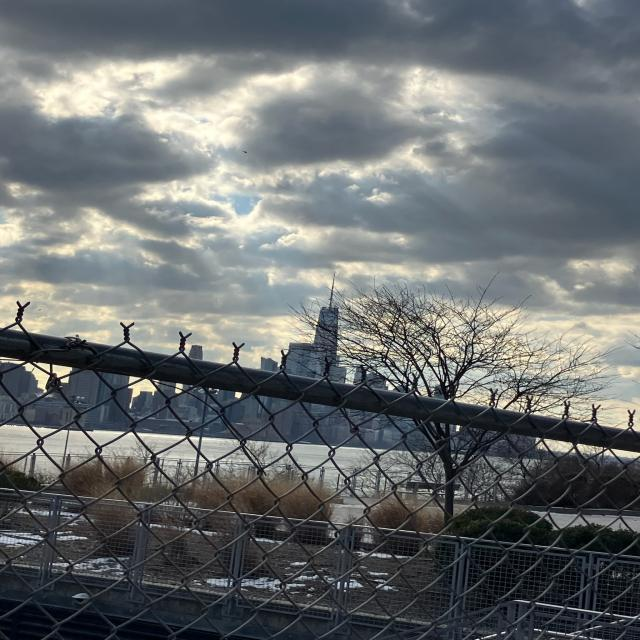WTC: (313, 275, 342, 368)
